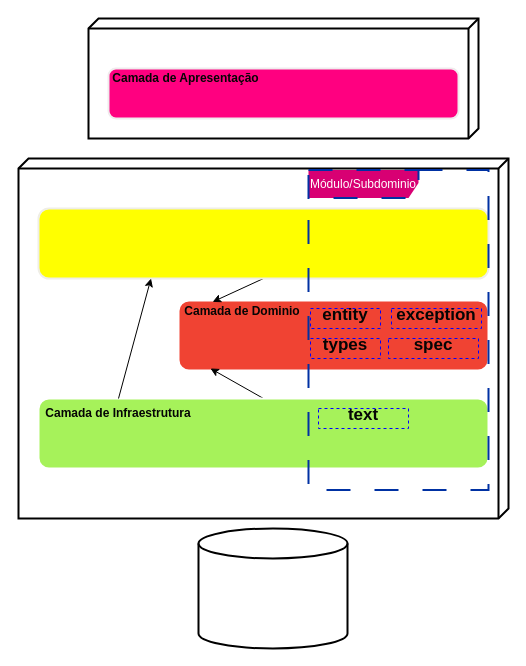
Image size: 526x666. Some labels were removed from this diagram. The box of each missing label's shape, as (x1, y1, x2, y2) in pixels:
Camada de Aplicação: (37, 207, 489, 279)
Database (Relacional): (197, 527, 348, 649)
ecommerce-node-api (back-end): (17, 157, 509, 519)
ecommerce-web-app (front-end): (87, 17, 479, 139)
